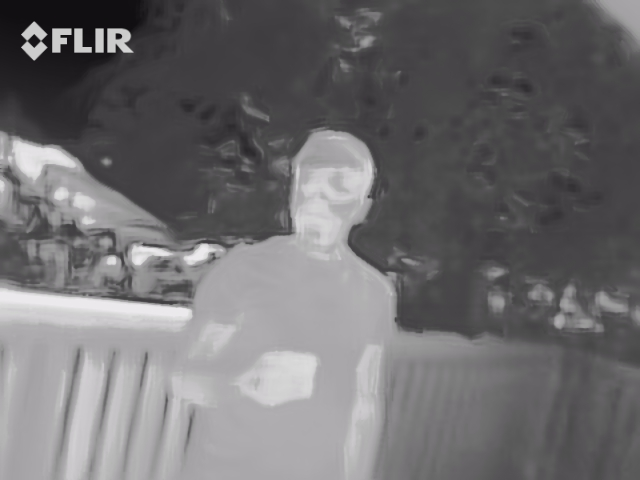head: (289, 128, 373, 241)
